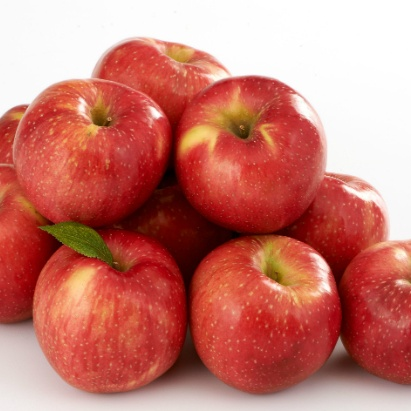apple: (33, 227, 185, 391), (186, 238, 345, 394), (177, 76, 326, 235), (18, 85, 172, 224), (92, 34, 231, 134), (343, 241, 411, 387), (294, 173, 390, 262)
